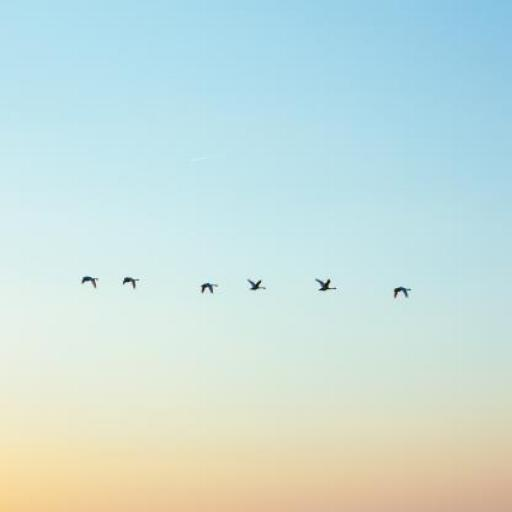bird: (315, 277, 337, 292), (81, 276, 100, 289), (247, 278, 266, 291), (123, 277, 140, 290), (201, 283, 219, 295), (394, 287, 412, 299)
